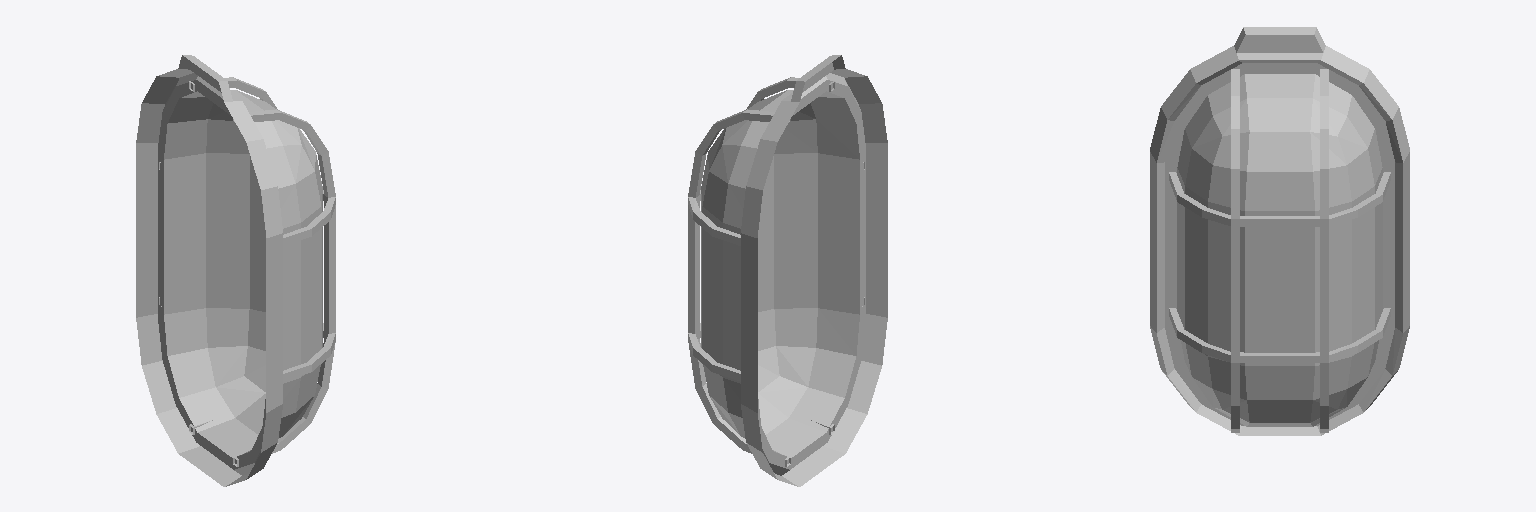
File: IndustrialBulb_Low.obj
The picture shows the model from 3 angles: view 1: azimuth 30°, elevation 25°; view 2: azimuth 150°, elevation 25°; view 3: azimuth 270°, elevation 25°; orthographic projection.
Parts seen in each view (by area): view 1: Low; view 2: Low; view 3: Low.
Part boxes in pixels (left/top/right/bottom): Low: left=136, top=55, right=335, bottom=486; Low: left=688, top=55, right=887, bottom=486; Low: left=1150, top=27, right=1409, bottom=435.
Bounding box in the file's own units: 0.962 × 3.32 × 1.95.